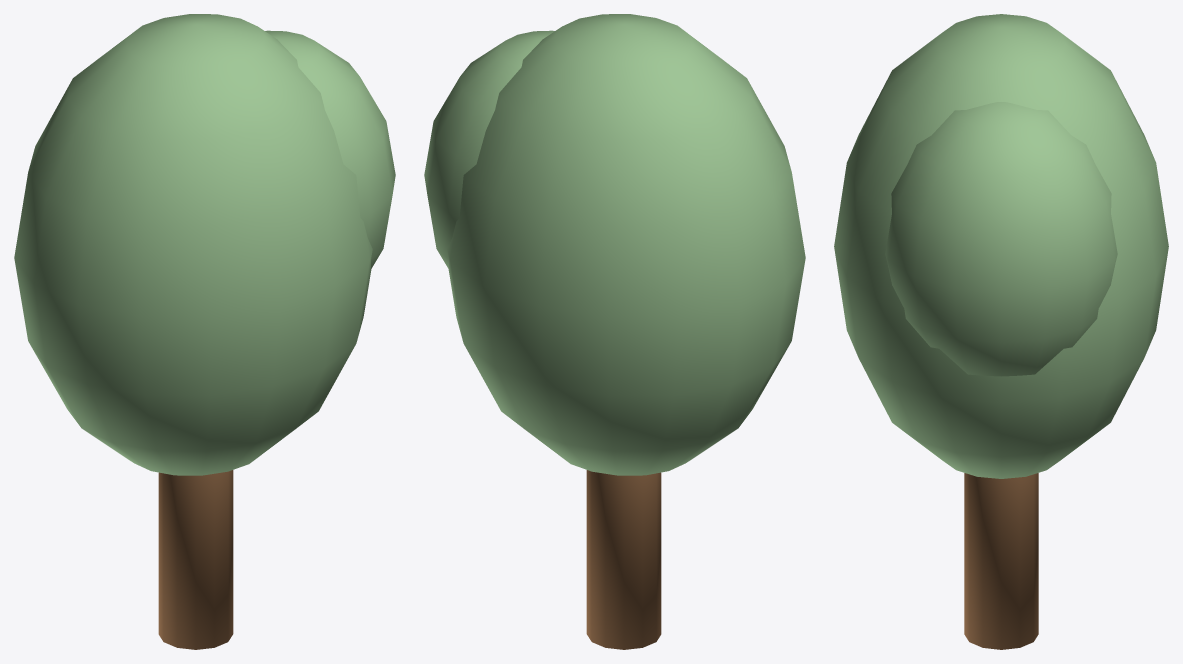
Rendered from tree.glb.
3 renders of one model, left to right at view 1: azimuth 30°, elevation 25°; view 2: azimuth 150°, elevation 25°; view 3: azimuth 270°, elevation 25°, orthographic.
Parts seen in each view (by area): view 1: Tree_leaf, Tree_wood; view 2: Tree_leaf, Tree_wood; view 3: Tree_leaf, Tree_wood.
Boxes of the visible parts, x1,y1,x2,y2 form: Tree_leaf: (14, 14, 395, 475); Tree_wood: (158, 470, 233, 649); Tree_leaf: (424, 14, 805, 475); Tree_wood: (586, 470, 661, 649); Tree_leaf: (834, 14, 1168, 478); Tree_wood: (964, 473, 1038, 649).
Bounding box in the file's own units: 1.07 × 1.8 × 0.9.
